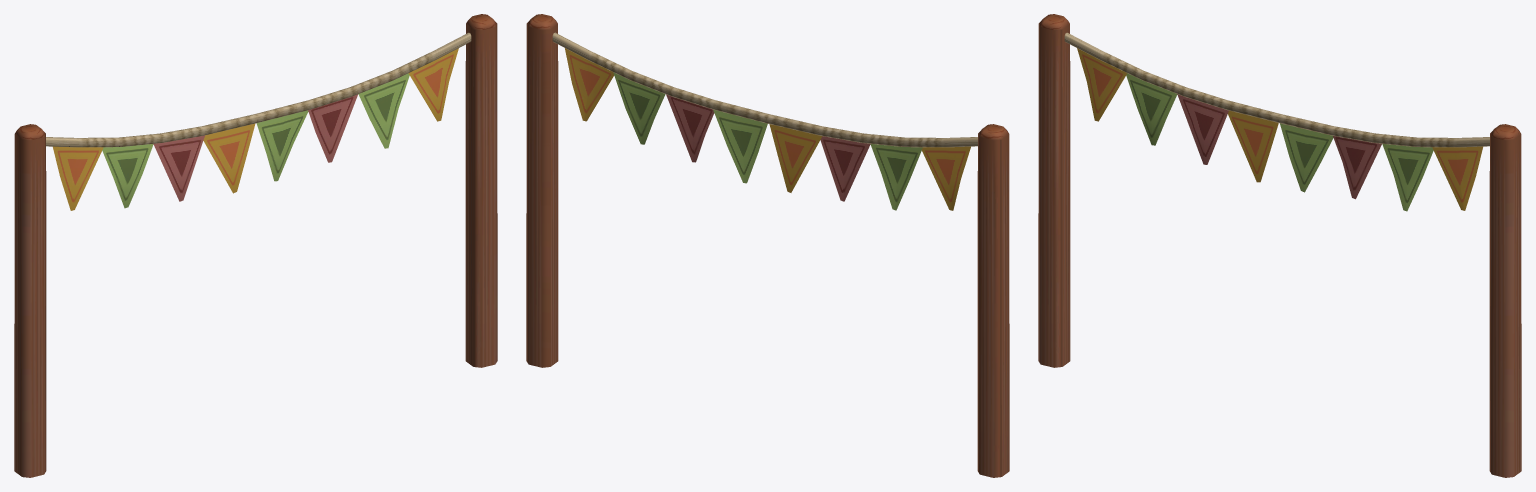
The model's file is BuntingFestoonHand.fbx.
The picture shows the model from 3 angles, left to right: view 1: azimuth 30°, elevation 25°; view 2: azimuth 150°, elevation 25°; view 3: azimuth 330°, elevation 25°; orthographic projection.
Visible parts, largest first — view 1: FestoonLights (1); view 2: FestoonLights (1); view 3: FestoonLights (1).
Part boxes in pixels (box(x1,y1,x2,y2)): FestoonLights (1): box(14, 14, 497, 477); FestoonLights (1): box(526, 14, 1009, 477); FestoonLights (1): box(1038, 14, 1521, 477).
Size of the model in its own units: 1.57 by 1.08 by 0.0792.
